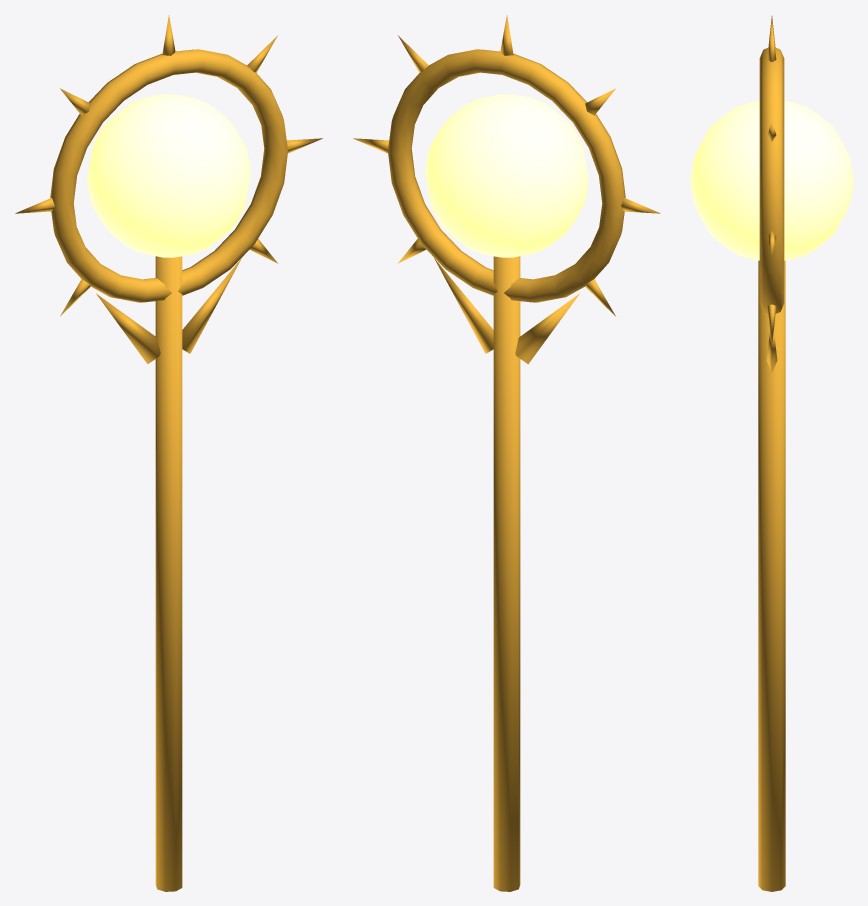
The model's file is weapon_druida_lendaria.glb.
3 renders of one model, left to right at view 1: azimuth 30°, elevation 25°; view 2: azimuth 150°, elevation 25°; view 3: azimuth 270°, elevation 25°, orthographic.
Parts seen in each view (by area): view 1: weapon_druida_lendaria; view 2: weapon_druida_lendaria; view 3: weapon_druida_lendaria.
Part boxes in pixels (x1,y1,x2,y2): weapon_druida_lendaria: (15, 15, 322, 891); weapon_druida_lendaria: (353, 15, 660, 891); weapon_druida_lendaria: (690, 16, 853, 891).
Bounding box in the file's own units: 1.3 × 3.5 × 0.6.
